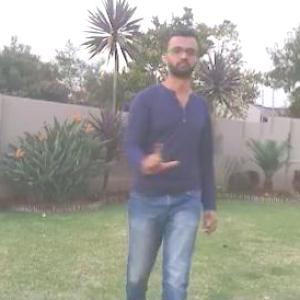land_hand: (137, 142, 182, 181)
